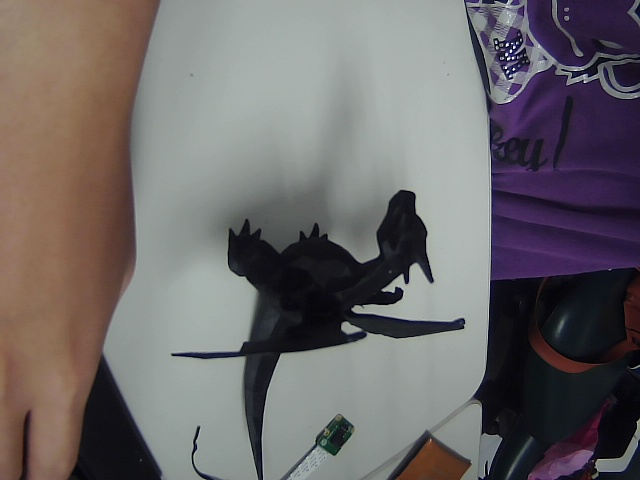charizard: (160, 159, 476, 480)
